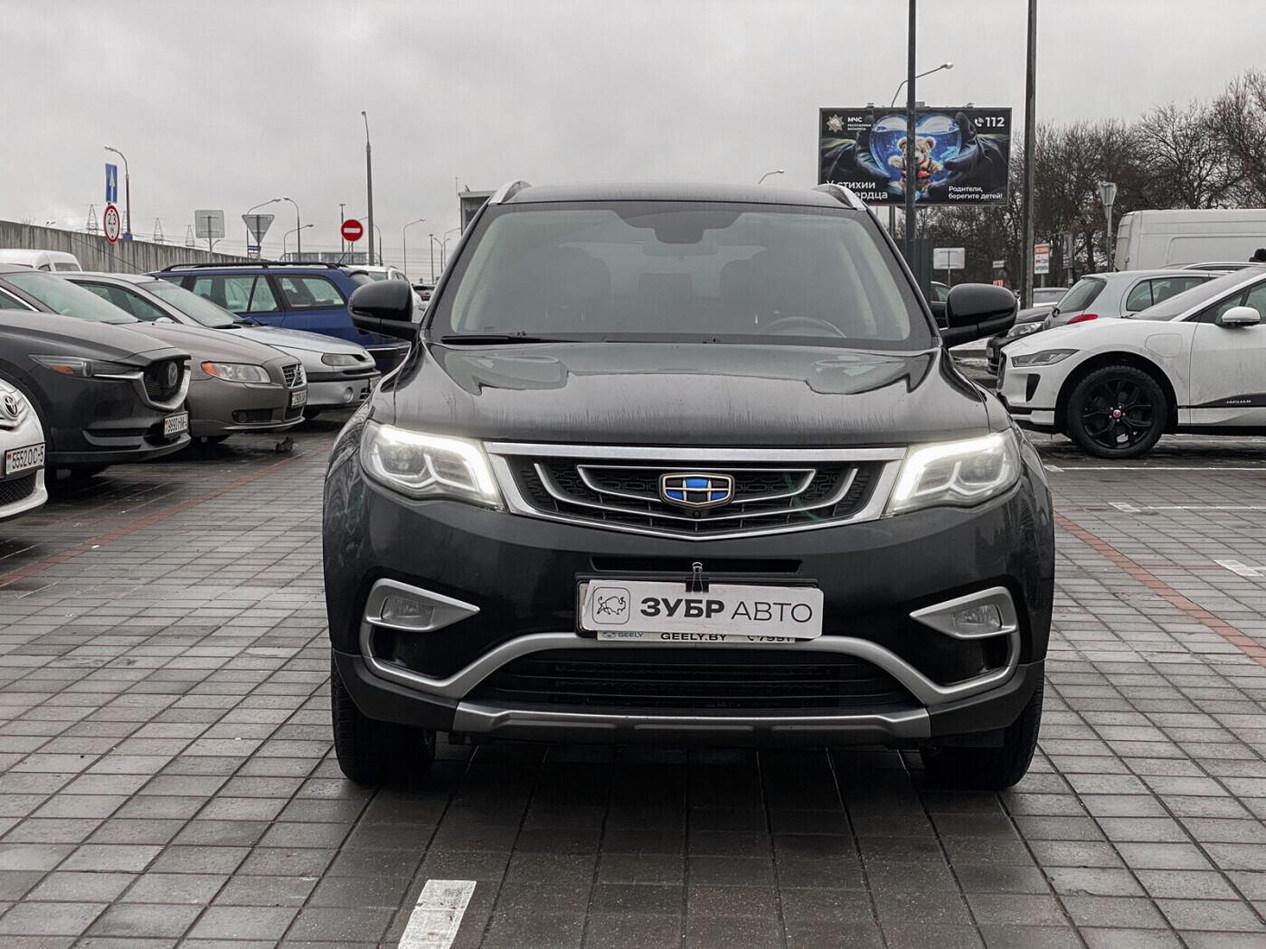Atlas_2016-2023: (316, 177, 1067, 804)
